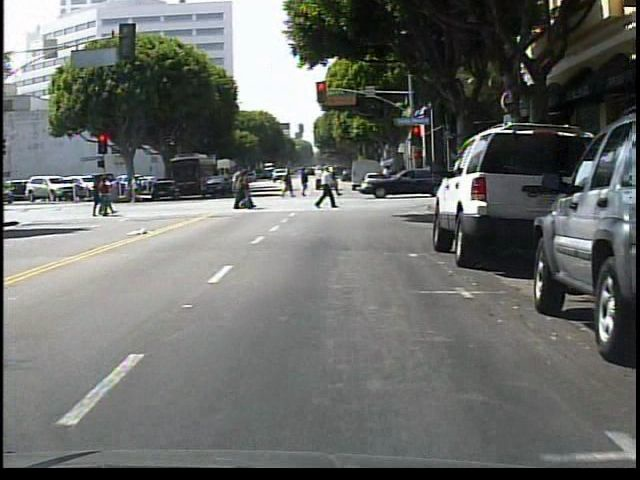person: (317, 161, 340, 213), (127, 173, 146, 204), (331, 167, 343, 196)
